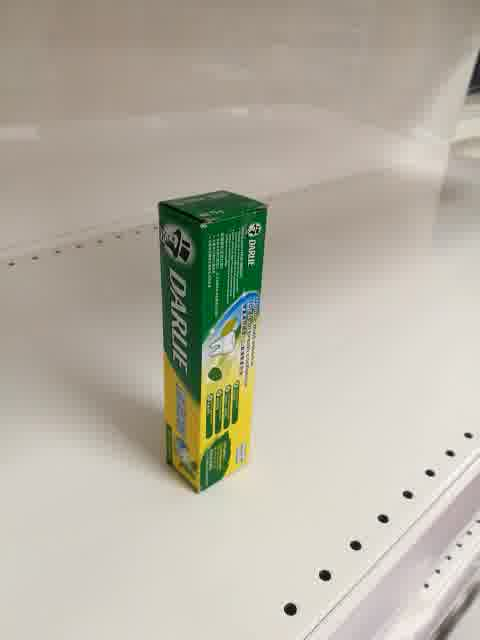toothpaste: (157, 189, 268, 494)
